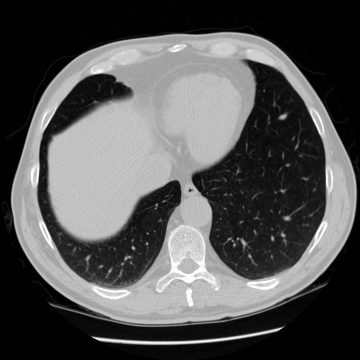nodule: (279, 113, 287, 121)
